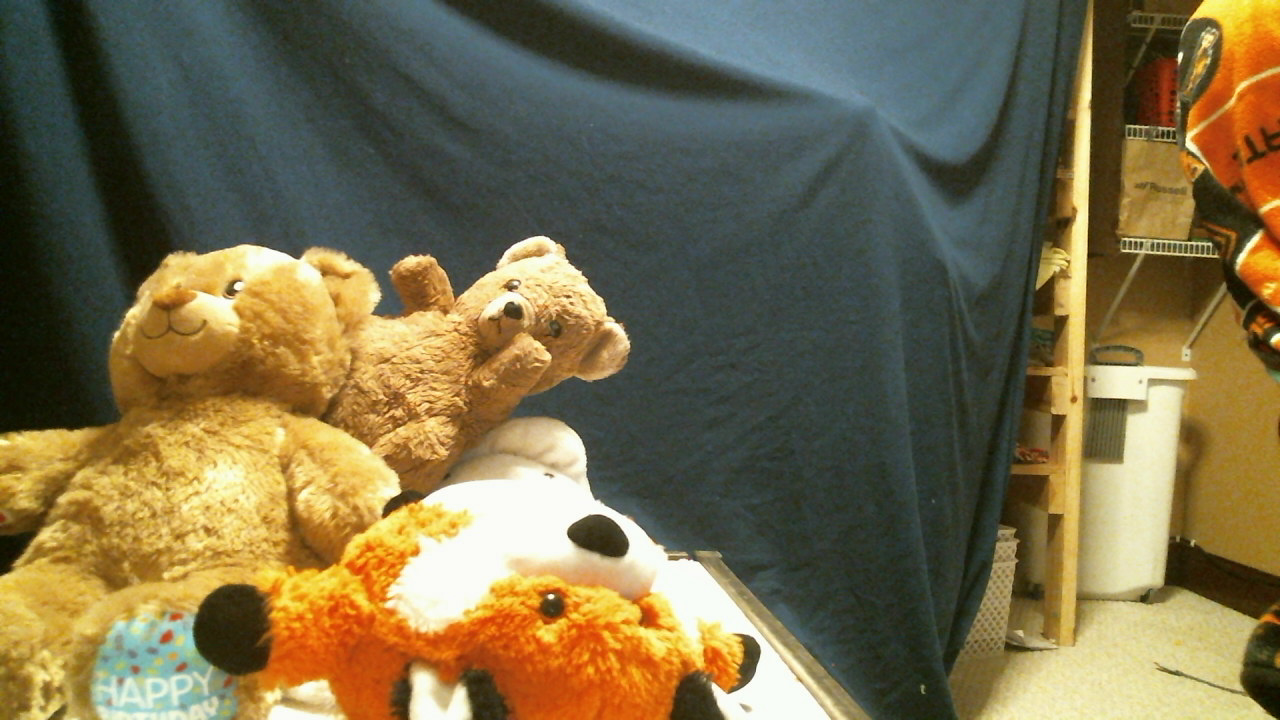Little_Mister_Bear: (462, 277, 595, 382)
